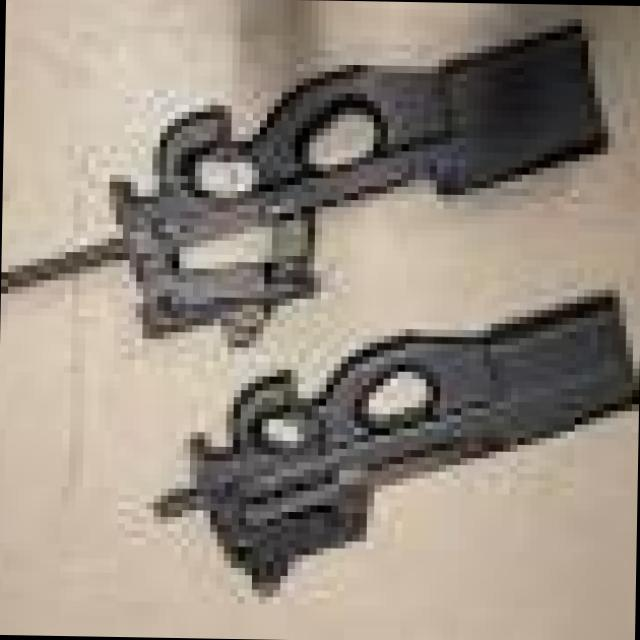Gun: (0, 22, 640, 325), (127, 286, 607, 612)
